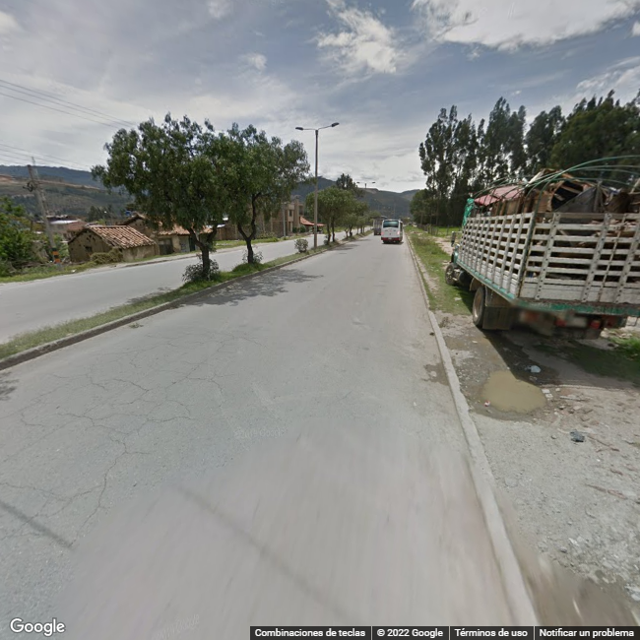D00: (5, 415, 81, 461), (65, 481, 108, 553), (94, 391, 149, 420), (1, 391, 51, 415), (5, 512, 38, 540), (101, 448, 126, 480)
D10: (1, 481, 67, 501), (86, 421, 135, 436), (118, 377, 159, 392)
